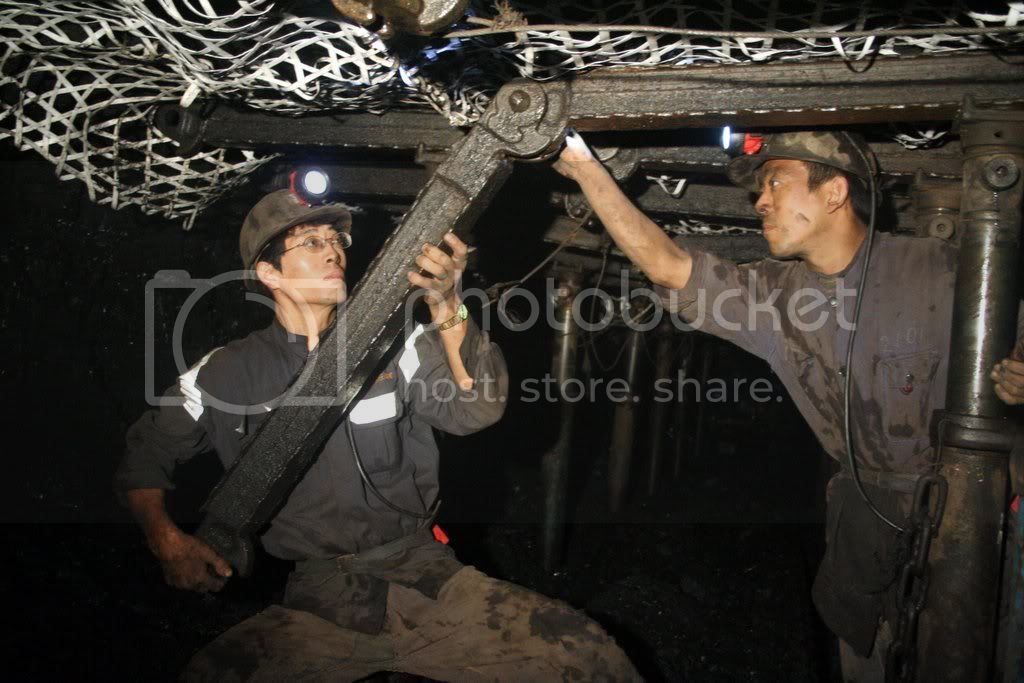helmet: (726, 126, 890, 266), (235, 184, 363, 300)
